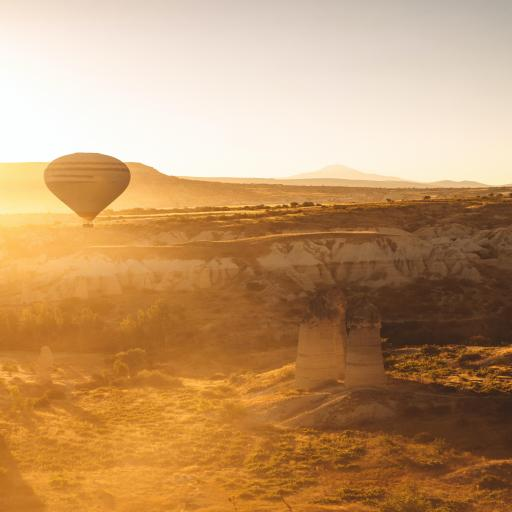hot air ballon: (42, 150, 134, 231)
